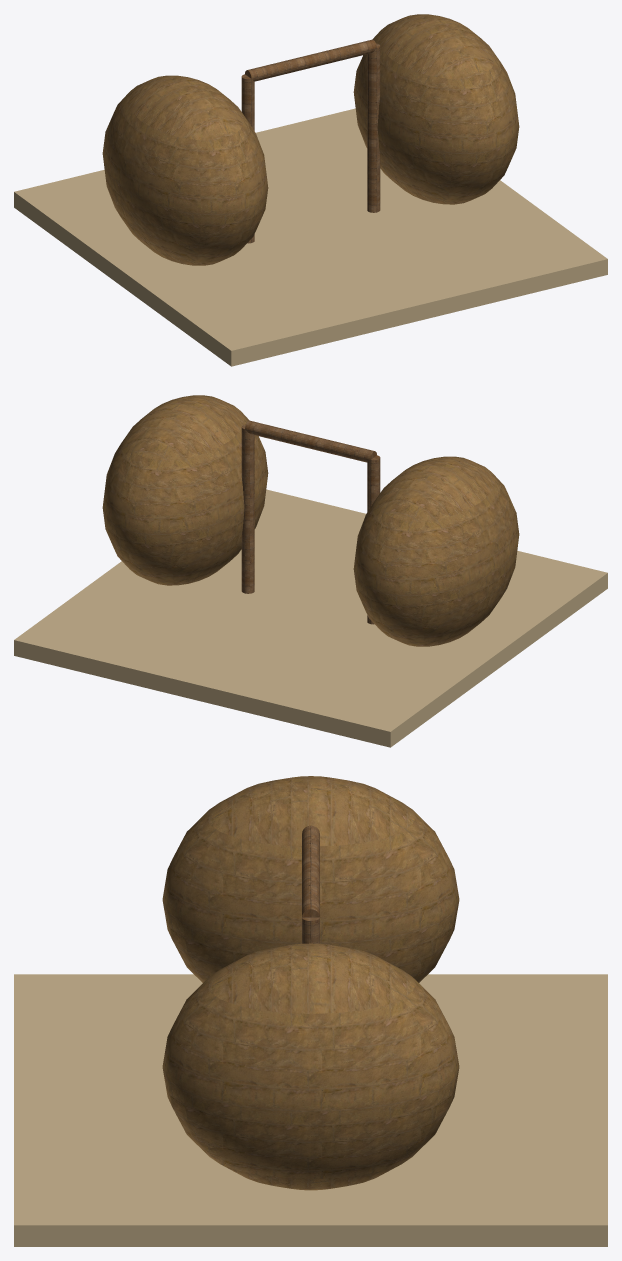
Rendered from mina.glb.
The picture shows the model from 3 angles, top to bottom: view 1: azimuth 30°, elevation 25°; view 2: azimuth 150°, elevation 25°; view 3: azimuth 270°, elevation 25°; orthographic projection. The views are drawn at different scales.
Visible parts, largest first — view 1: Base ilustrativa, Rocha, Rocha.001, Esteio.001, Travessa, Esteio; view 2: Base ilustrativa, Rocha, Rocha.001, Esteio.001, Travessa, Esteio; view 3: Base ilustrativa, Rocha.001, Rocha, Travessa.
Boxes of the visible parts, x1=… form: Base ilustrativa: x1=14, y1=108, x2=607, y2=366; Rocha: x1=102, y1=75, x2=268, y2=265; Rocha.001: x1=353, y1=14, x2=519, y2=204; Esteio.001: x1=367, y1=43, x2=380, y2=212; Travessa: x1=245, y1=39, x2=376, y2=81; Esteio: x1=241, y1=74, x2=254, y2=243; Base ilustrativa: x1=14, y1=489, x2=607, y2=747; Rocha: x1=353, y1=456, x2=519, y2=646; Rocha.001: x1=102, y1=395, x2=268, y2=585; Esteio.001: x1=241, y1=424, x2=254, y2=593; Travessa: x1=245, y1=420, x2=376, y2=462; Esteio: x1=367, y1=455, x2=380, y2=624; Base ilustrativa: x1=14, y1=974, x2=607, y2=1246; Rocha.001: x1=162, y1=943, x2=459, y2=1190; Rocha: x1=162, y1=776, x2=459, y2=982; Travessa: x1=302, y1=825, x2=319, y2=917.
Bounding box in the file's own units: 6 × 2.84 × 6.
3 materials, 2 textured.
